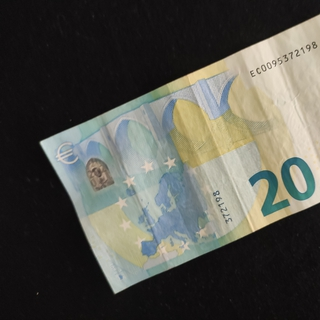20EUROBack: (39, 8, 320, 295)
